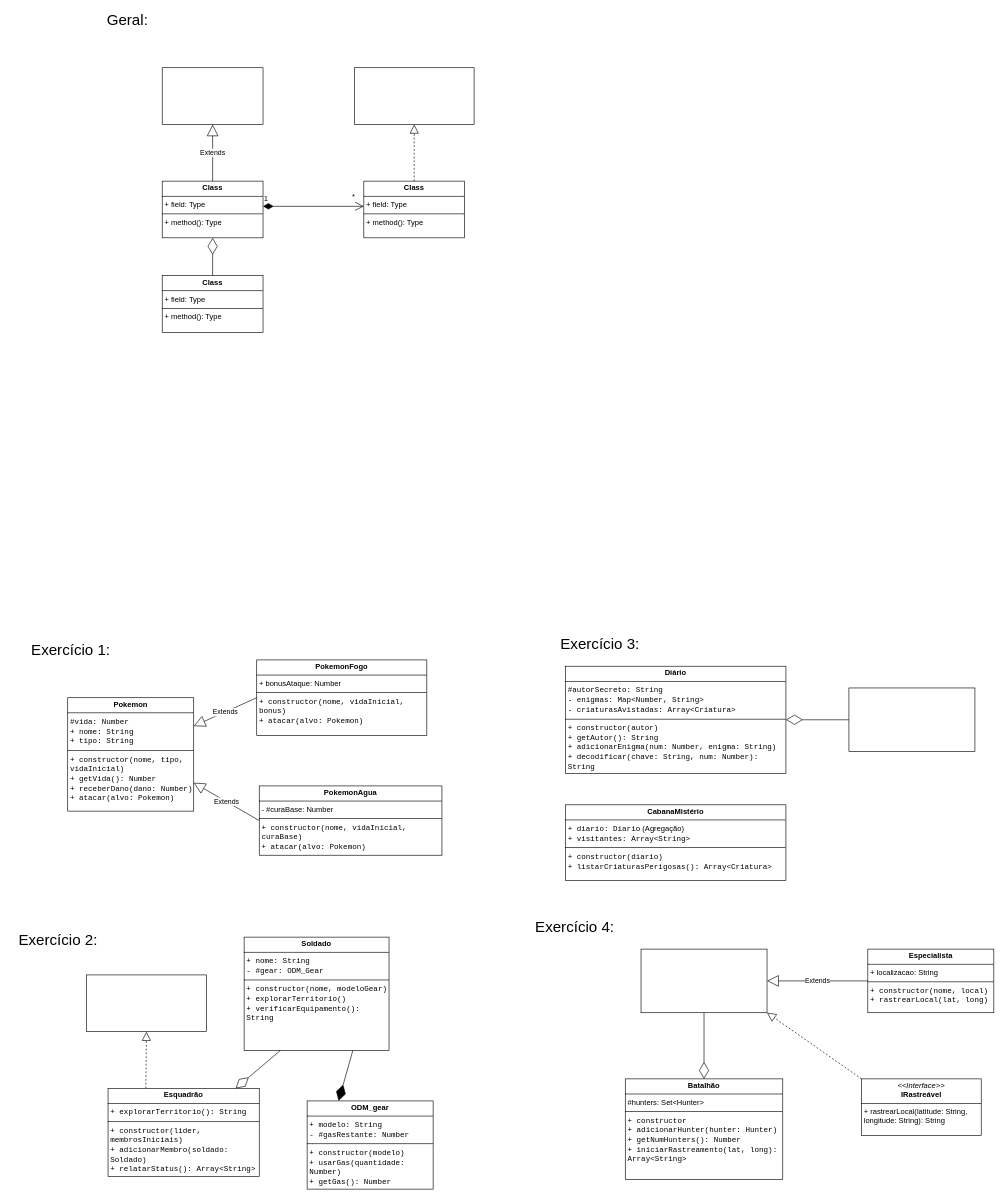
Some shapes in this 1005 by 1200 pixel diagram are drawn without their labels. Each missing label, with the centre of its shape:
"<<Interface>> IExplorador + explorarTerritorio(): String" goes at [146,1003].
"<<Interface>> Interface + method1(Type): Type + method2(Type, Type): Type" goes at [414,95].
"<Abstract Class> Class + field: Type + method(): Type" goes at [212,95].
"Criatura + nome: String + perigosa: Boolean + constructor(nome, perigosa)" goes at [911,719].
"Hunter + nome: String + nen: String + constructor(nome, nen)" goes at [703,980].
